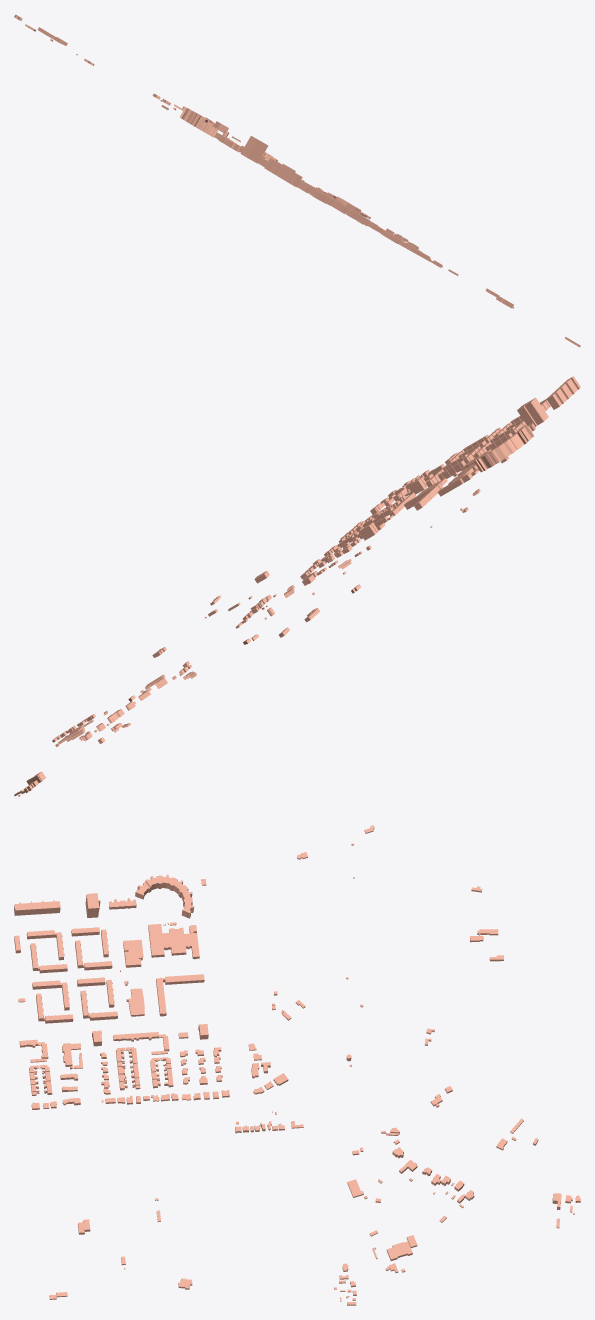
The picture shows the model from 3 angles, top to bottom: view 1: azimuth 30°, elevation 25°; view 2: azimuth 150°, elevation 25°; view 3: azimuth 270°, elevation 25°; orthographic projection. The views are drawn at different scales.
Size of the model in its own units: 960 by 723 by 1237.
